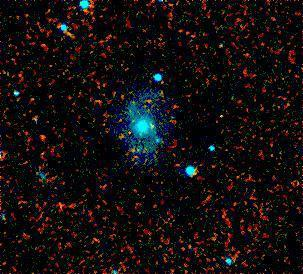star: (134, 105, 164, 135)
